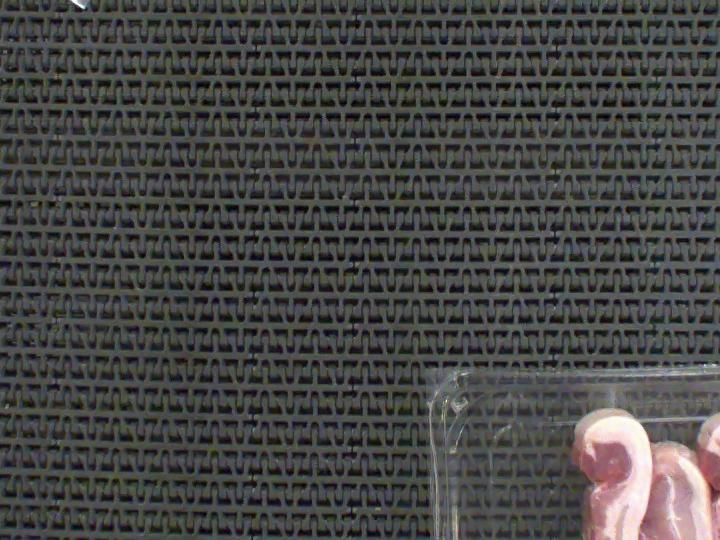packaging-error: (587, 381, 630, 416)
